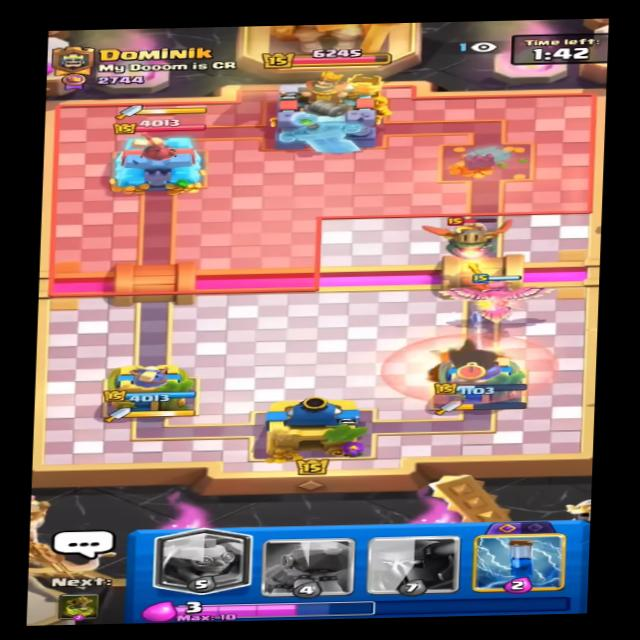Infernodragon: (421, 204, 517, 262)
